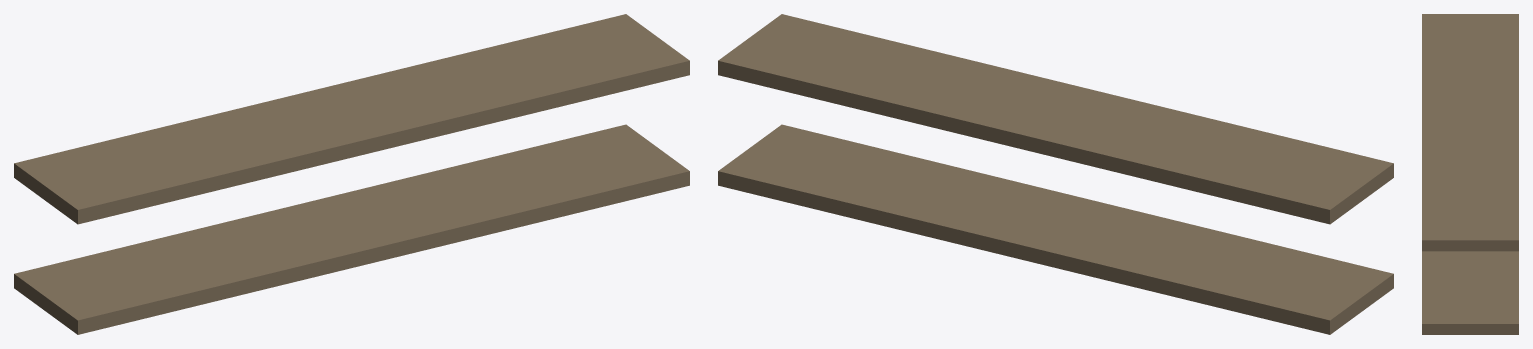
File: colored shelves.fbx
3 views of the same model, side by side, from view 1: azimuth 30°, elevation 25°; view 2: azimuth 150°, elevation 25°; view 3: azimuth 270°, elevation 25° (orthographic). The views are drawn at different scales.
Parts seen in each view (by area): view 1: shelves; view 2: shelves; view 3: shelves.
Part boxes in pixels (x1=…): shelves: x1=14, y1=14, x2=689, y2=334; shelves: x1=718, y1=14, x2=1393, y2=334; shelves: x1=1422, y1=14, x2=1518, y2=334.
Size of the model in its own units: 1.58 by 0.3087 by 0.2856.
